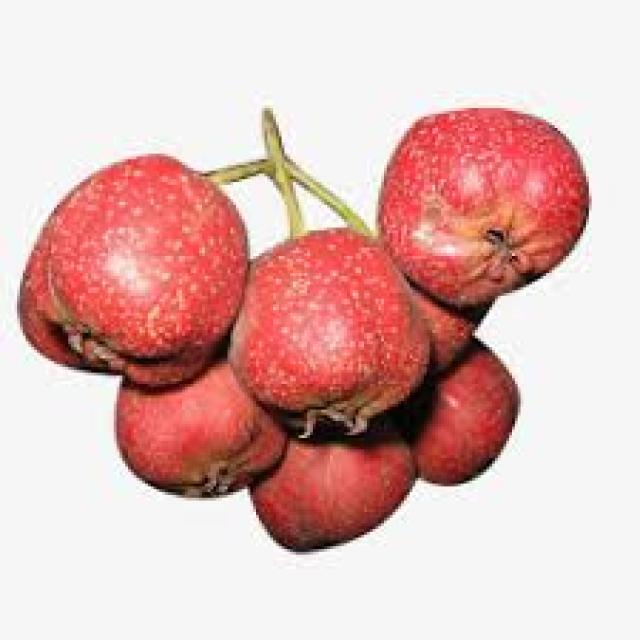organic waste: (14, 154, 248, 384), (230, 225, 432, 441), (381, 108, 589, 307), (114, 347, 316, 498), (248, 410, 416, 543), (395, 330, 518, 486), (396, 259, 490, 361)
